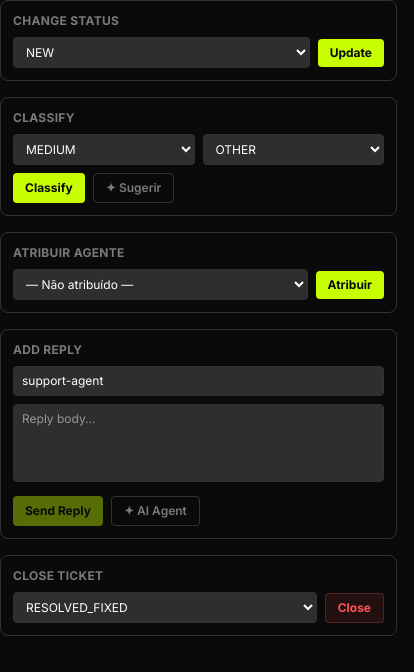
ActionButtons — Assign agent › shows error when assign fails
Click the button "Atribuir" at (350, 284), box x1=316 y1=270 x2=384 y2=298
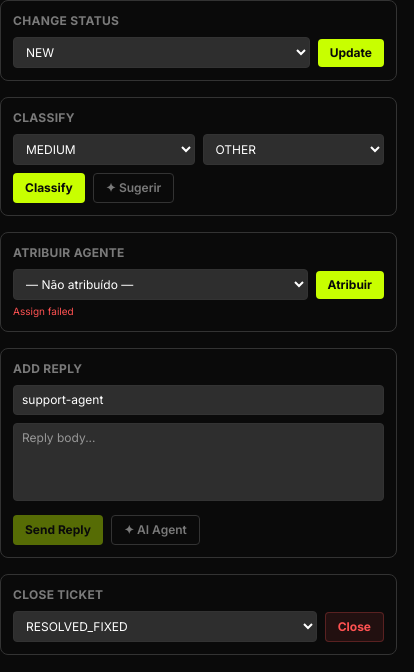
Now the text "Assign failed" is shown, box x1=13 y1=305 x2=74 y2=317
